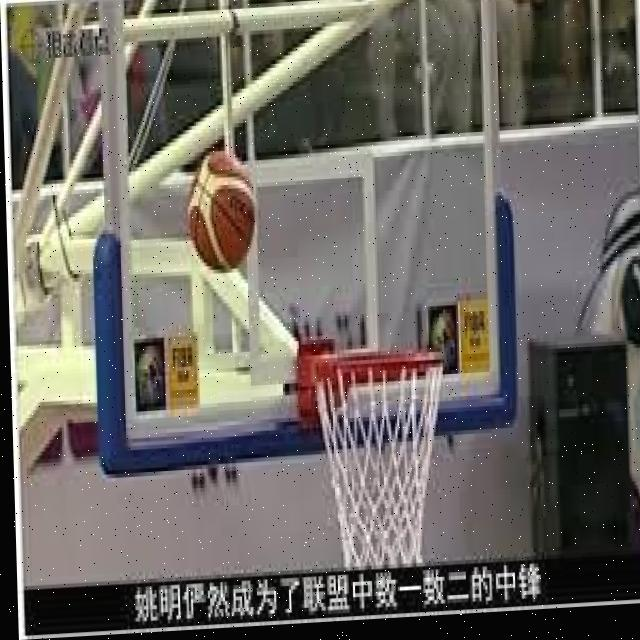basketball: (188, 149, 258, 275)
hoop: (312, 344, 448, 569)
